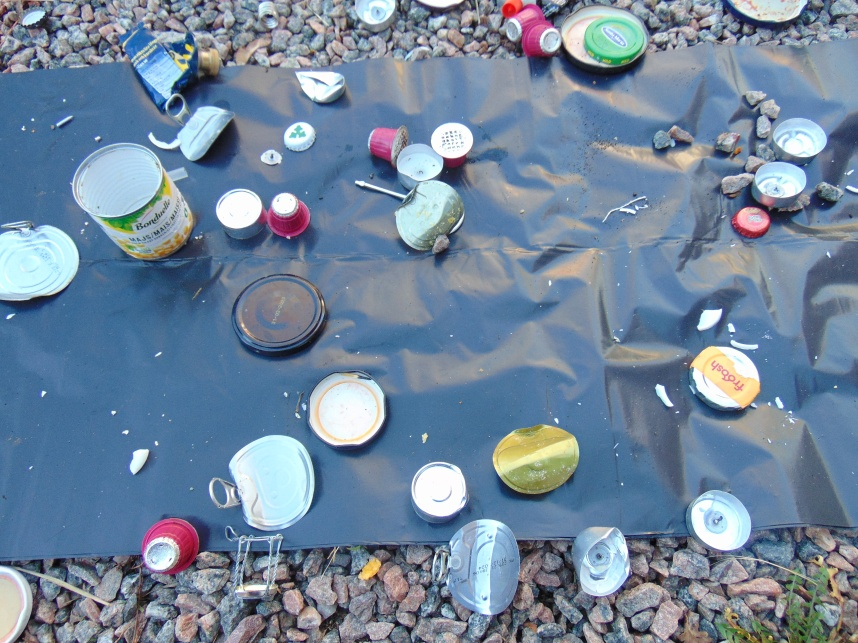metal: (207, 436, 313, 530), (121, 22, 223, 108), (437, 520, 521, 616), (233, 273, 325, 357), (306, 372, 392, 454), (1, 220, 81, 304), (492, 422, 583, 495), (559, 3, 652, 74), (689, 342, 765, 414), (394, 181, 464, 255), (683, 490, 754, 557), (166, 94, 237, 159), (223, 528, 284, 601), (571, 524, 631, 597), (409, 461, 470, 523), (141, 518, 201, 572), (582, 16, 646, 66), (750, 161, 811, 212), (769, 115, 831, 165), (215, 187, 265, 241), (1, 562, 33, 643), (725, 1, 812, 27), (396, 141, 444, 186), (265, 191, 310, 238), (294, 68, 349, 105), (367, 124, 409, 166), (431, 121, 475, 161), (734, 204, 774, 247), (350, 1, 400, 35), (522, 17, 561, 55), (506, 4, 545, 41), (284, 117, 319, 156), (351, 177, 404, 202), (15, 5, 50, 32), (413, 1, 471, 12), (526, 1, 571, 15)
metal_can: (72, 141, 194, 262)
